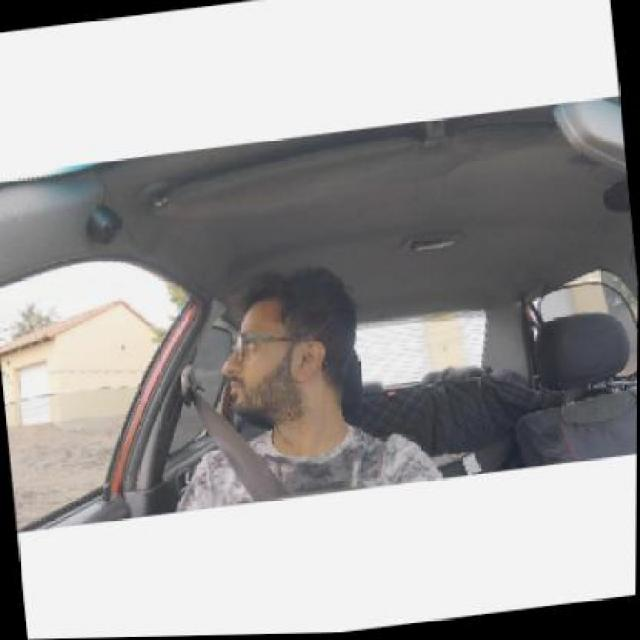LeftRight: (209, 259, 390, 451)
